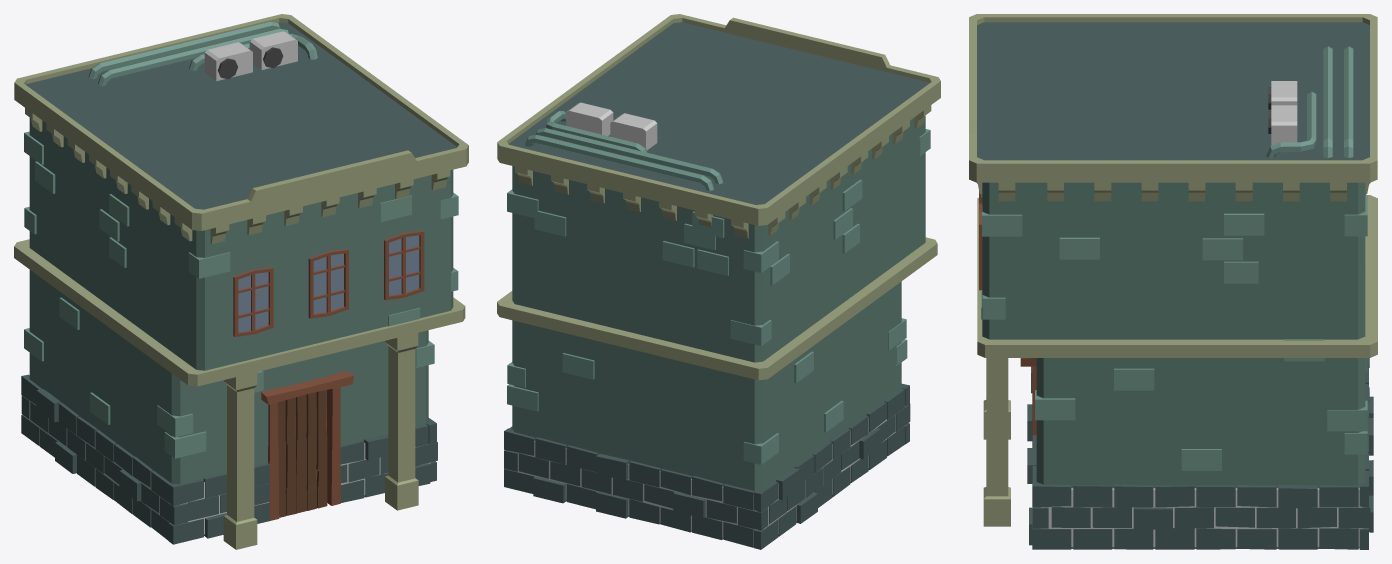
Rendered from 2story_columns_mat.glb.
The picture shows the model from 3 angles, left to right: view 1: azimuth 30°, elevation 25°; view 2: azimuth 150°, elevation 25°; view 3: azimuth 270°, elevation 25°; orthographic projection. The views are drawn at different scales.
Visible parts, largest first — view 1: 2Story_Columns_Mat; view 2: 2Story_Columns_Mat; view 3: 2Story_Columns_Mat.
Boxes of the visible parts, x1,y1,x2,y2 form: 2Story_Columns_Mat: [14, 14, 468, 549]; 2Story_Columns_Mat: [497, 14, 940, 549]; 2Story_Columns_Mat: [969, 14, 1377, 549].
Bounding box in the file's own units: 2.16 × 2.77 × 2.49.
